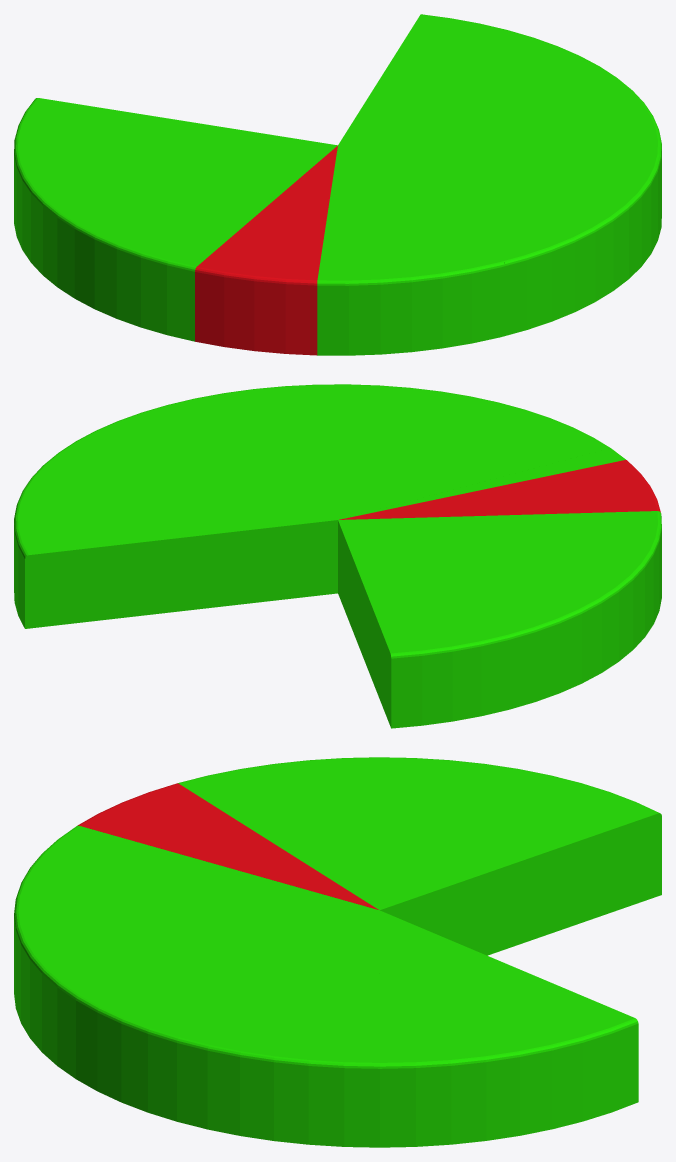
Rendered from PieChartMeleeWeapon.fbx.
3 views of the same model, one above another, from view 1: azimuth 30°, elevation 25°; view 2: azimuth 150°, elevation 25°; view 3: azimuth 270°, elevation 25° (orthographic). The views are drawn at different scales.
Visible parts, largest first — view 1: wedge.20; view 2: wedge.20; view 3: wedge.20.
Part boxes in pixels (x1=…): wedge.20: x1=14, y1=14, x2=661, y2=355; wedge.20: x1=14, y1=384, x2=661, y2=728; wedge.20: x1=14, y1=757, x2=661, y2=1147.
Size of the model in its own units: 200 by 25.01 by 177.
